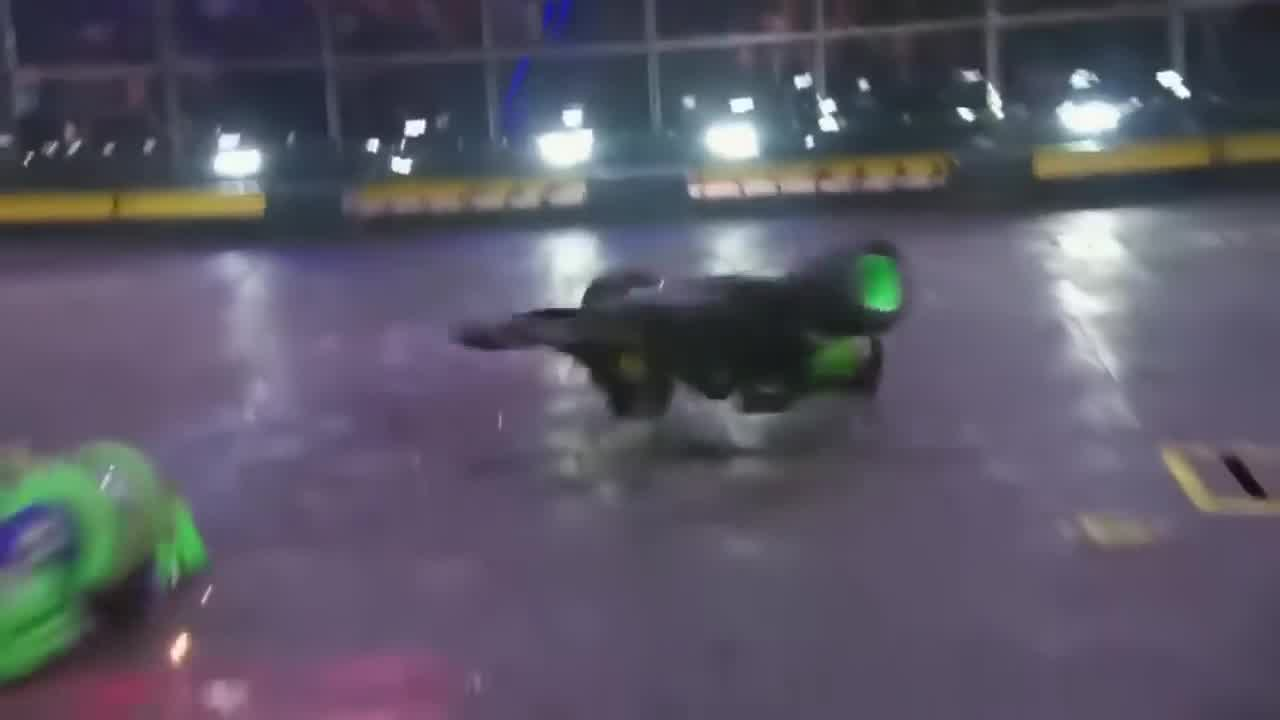combatbot: (446, 235, 918, 419), (0, 434, 208, 698)
